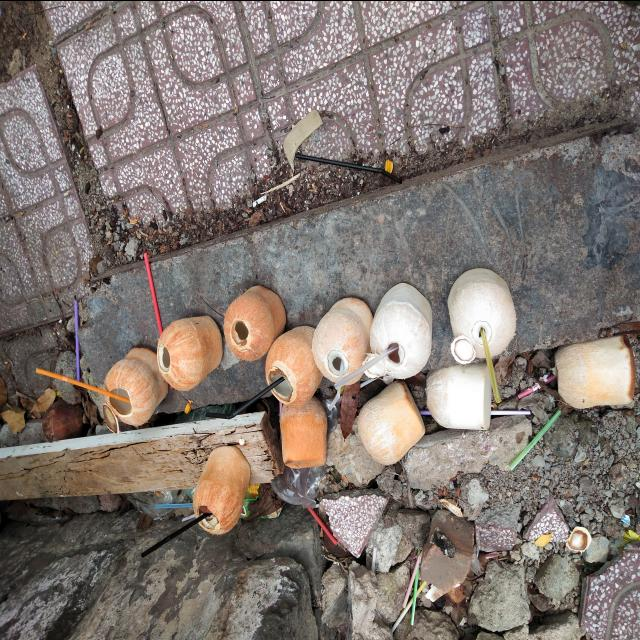Cigarette: (253, 195, 266, 207)
Drink carton: (240, 483, 282, 518)
Other plastic: (616, 530, 640, 553)
Other plastic bottle: (386, 159, 393, 172)
Plastic film: (270, 464, 326, 508), (126, 488, 180, 517), (244, 483, 286, 520), (174, 402, 235, 422), (322, 397, 340, 447), (470, 545, 481, 575), (183, 487, 195, 498)
Plastic straw: (206, 375, 285, 419), (36, 367, 130, 402), (509, 408, 562, 470), (141, 512, 212, 557), (296, 153, 402, 183), (335, 343, 398, 389), (391, 580, 427, 632), (144, 252, 163, 336), (481, 327, 501, 402), (402, 546, 424, 608), (307, 507, 337, 544), (518, 373, 556, 398), (328, 359, 343, 410), (74, 300, 80, 380), (411, 565, 419, 624), (491, 409, 531, 414), (155, 502, 193, 507), (361, 377, 379, 387), (371, 544, 377, 572), (279, 401, 282, 439), (182, 513, 195, 521), (486, 551, 497, 559), (420, 409, 431, 414), (417, 548, 421, 558)
Unlabeled litter: (284, 109, 324, 172), (621, 513, 630, 523)
